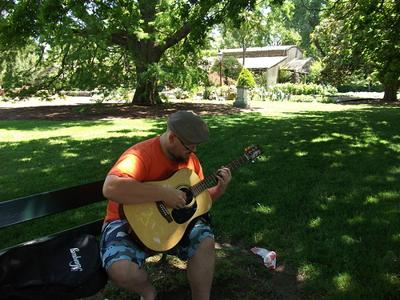person: (99, 110, 234, 299)
